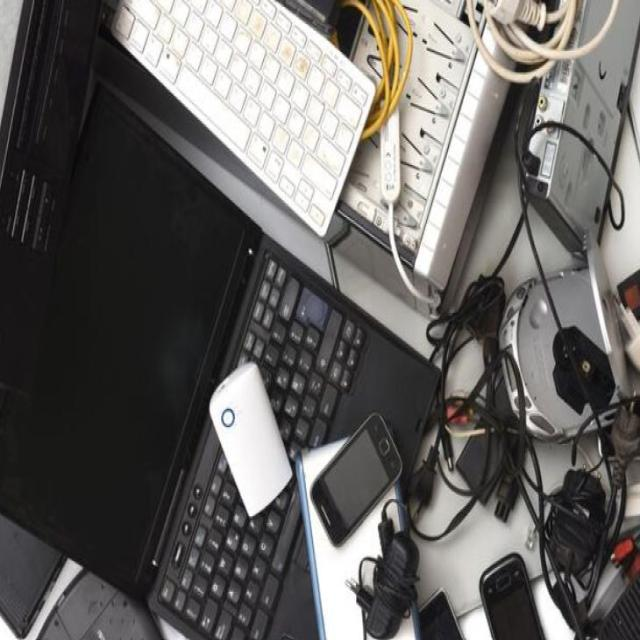electronic: (9, 93, 441, 640), (114, 0, 362, 238), (473, 203, 637, 498)
